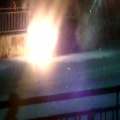fire: (27, 15, 57, 67)
